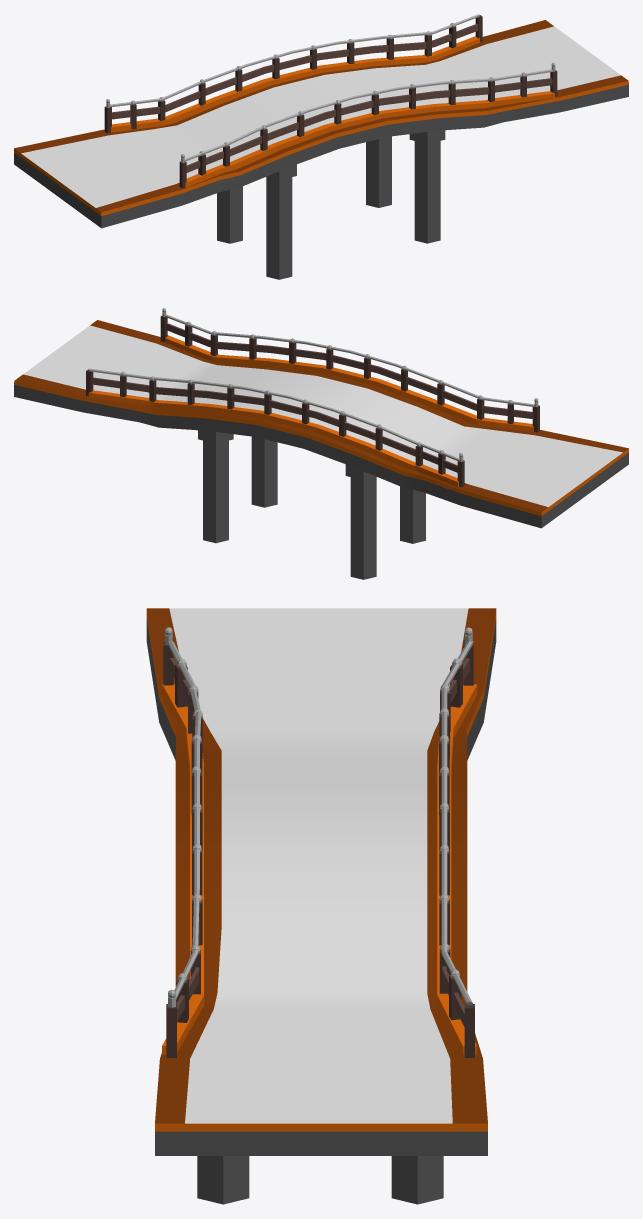
Rendered from ponte_9.fbx.
The picture shows the model from 3 angles, top to bottom: view 1: azimuth 30°, elevation 25°; view 2: azimuth 150°, elevation 25°; view 3: azimuth 270°, elevation 25°; orthographic projection. The views are drawn at different scales.
Visible parts, largest first — view 1: polySurface344, polySurface345, polySurface375, polySurface342, polySurface408, polySurface372, polySurface400; view 2: polySurface344, polySurface345, polySurface375, polySurface342, polySurface408, polySurface372; view 3: polySurface344, polySurface408, polySurface375, polySurface345, polySurface372, polySurface342, polySurface400.
Boxes of the visible parts, x1,y1,x2,y2 form: polySurface344: [14, 20, 628, 228]; polySurface345: [217, 130, 445, 279]; polySurface375: [111, 36, 554, 187]; polySurface342: [112, 24, 552, 172]; polySurface408: [104, 15, 557, 188]; polySurface372: [110, 14, 552, 161]; polySurface400: [131, 23, 525, 155]; polySurface344: [14, 320, 628, 528]; polySurface345: [198, 430, 425, 579]; polySurface375: [88, 335, 533, 486]; polySurface342: [91, 323, 533, 472]; polySurface408: [86, 315, 539, 487]; polySurface372: [89, 314, 534, 461]; polySurface344: [146, 608, 496, 1155]; polySurface408: [163, 641, 474, 1057]; polySurface375: [162, 684, 477, 1054]; polySurface345: [197, 1156, 443, 1204]; polySurface372: [168, 641, 473, 1005]; polySurface342: [170, 657, 469, 1026]; polySurface400: [177, 658, 461, 981].
Size of the model in its own units: 16.3 by 4.88 by 4.66.
